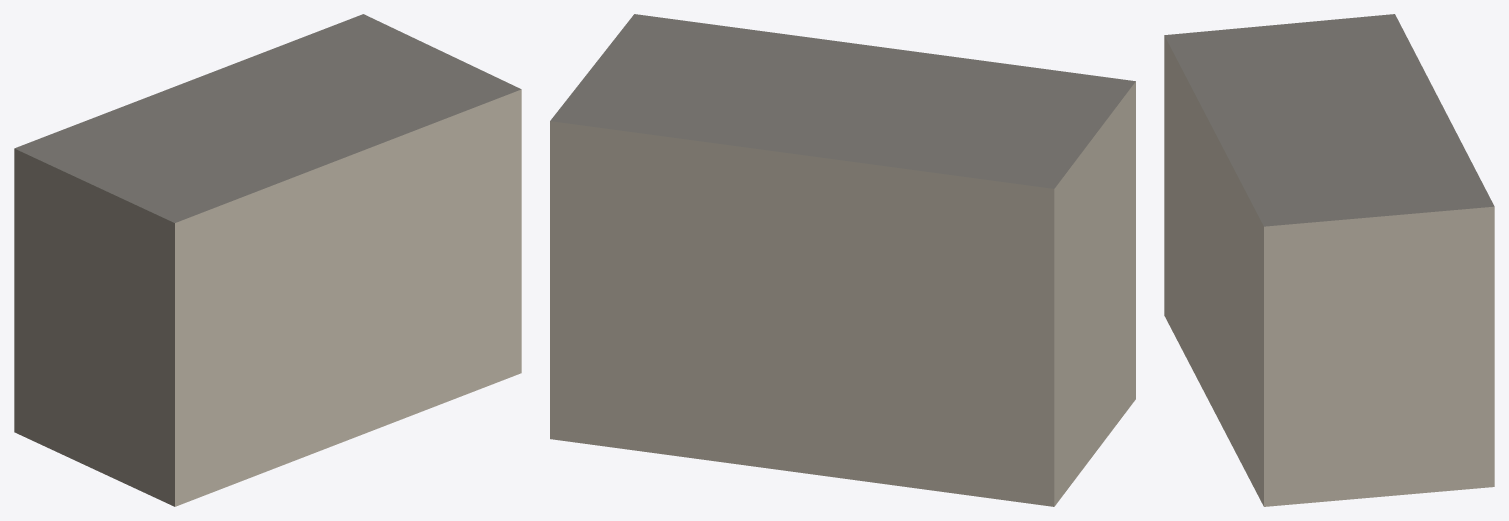
3 views of the same model, side by side, from view 1: azimuth 30°, elevation 25°; view 2: azimuth 150°, elevation 25°; view 3: azimuth 270°, elevation 25° (orthographic). The views are drawn at different scales.
Parts seen in each view (by area): view 1: HP-w505664423; view 2: HP-w505664423; view 3: HP-w505664423.
Part boxes in pixels (left/top/right/bottom): HP-w505664423: left=14, top=14, right=521, bottom=506; HP-w505664423: left=550, top=14, right=1135, bottom=506; HP-w505664423: left=1164, top=14, right=1494, bottom=506.
Size of the model in its own units: 24.4 by 15 by 16.02.
